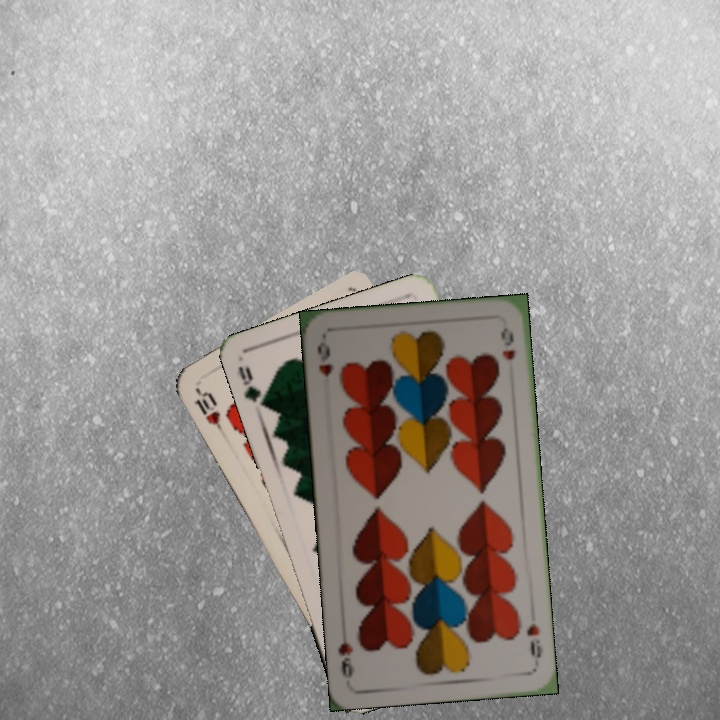G9: (234, 362, 273, 412)
H10: (191, 384, 229, 438)
H9: (313, 338, 336, 380), (522, 619, 545, 660)
